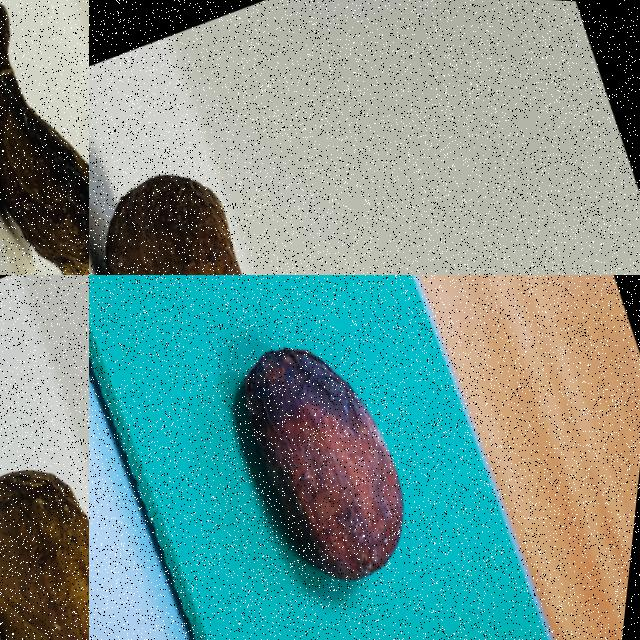Fine_cocoabeans: (121, 275, 536, 639), (89, 122, 397, 274), (0, 387, 88, 639)
Flat_cocoabeans: (0, 0, 88, 274)
